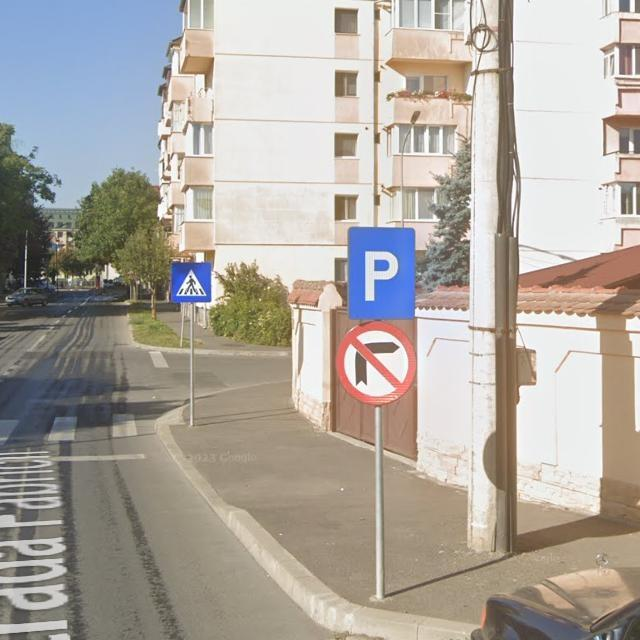info_crosswalk: (171, 261, 212, 303)
